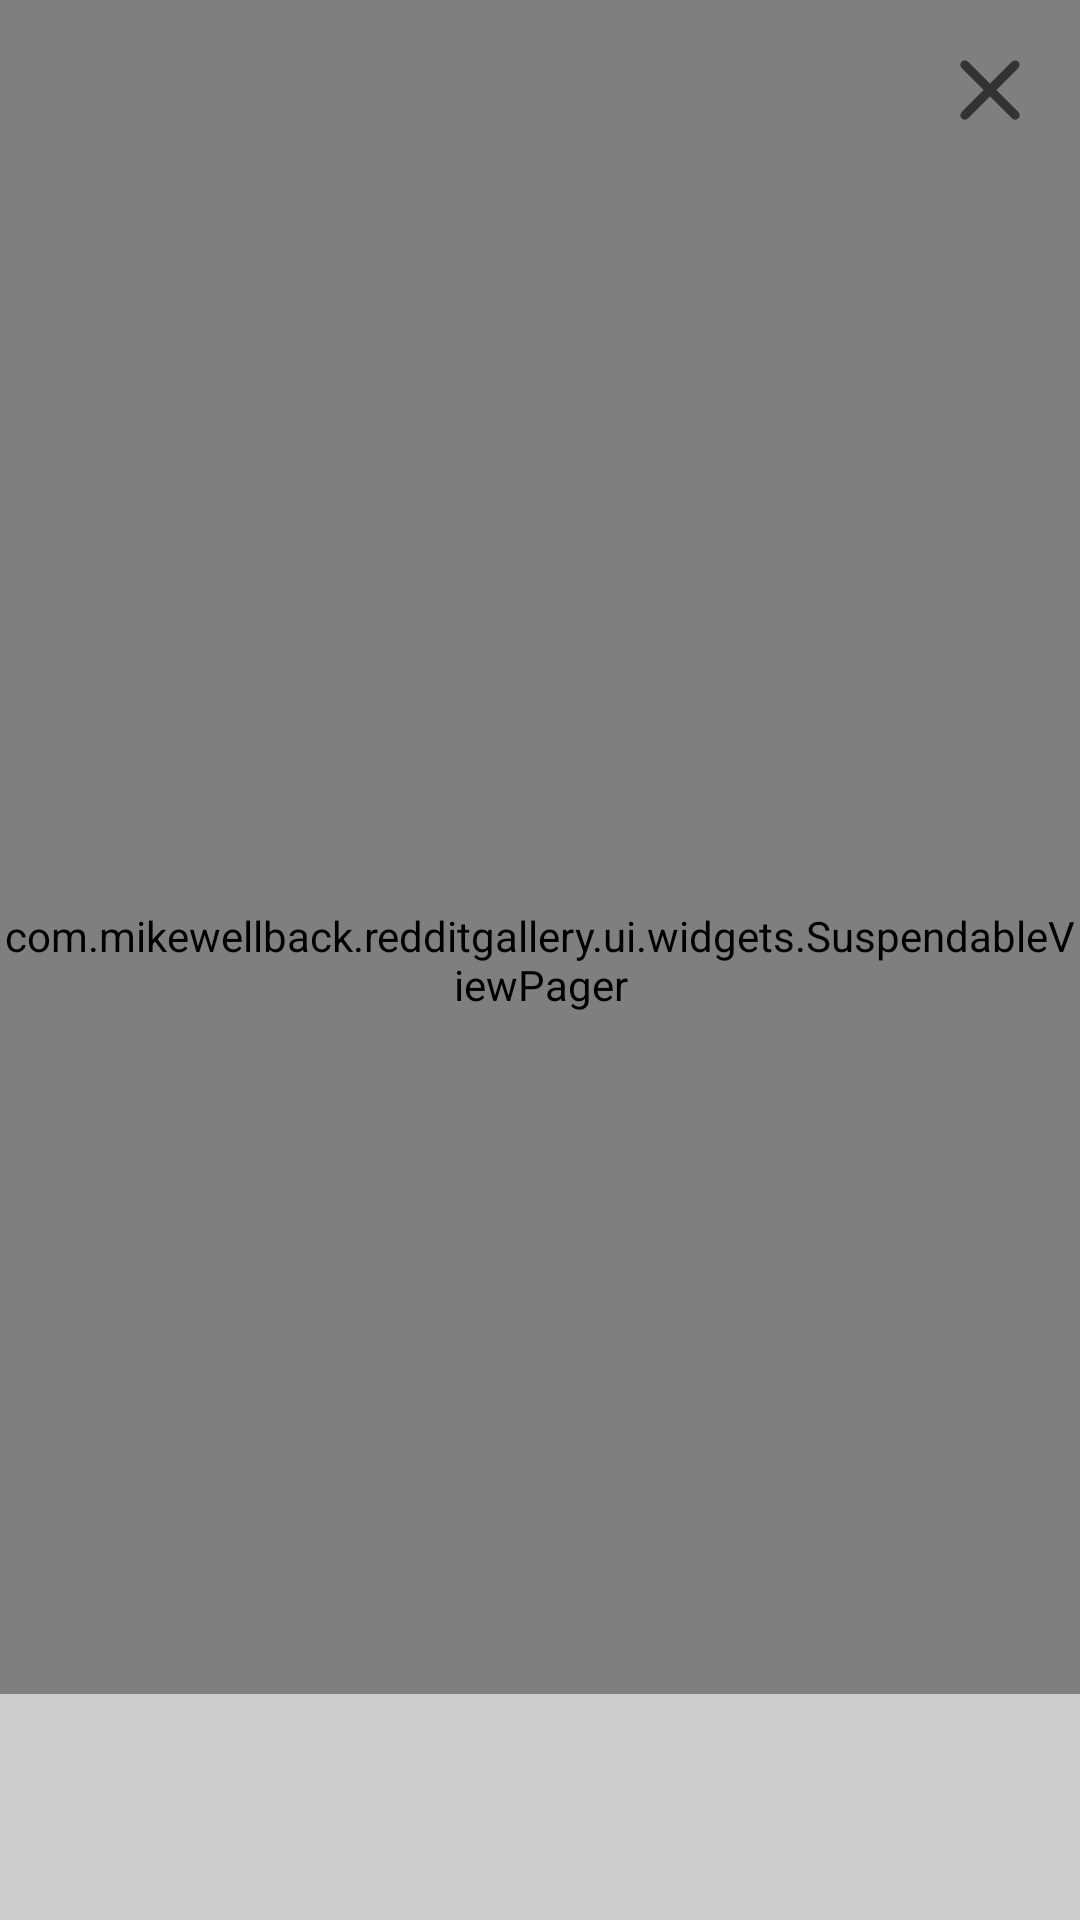

Icon click points for this 1080 × 1920 phone screenshot, format [x,y]:
Close button: [990,90]
